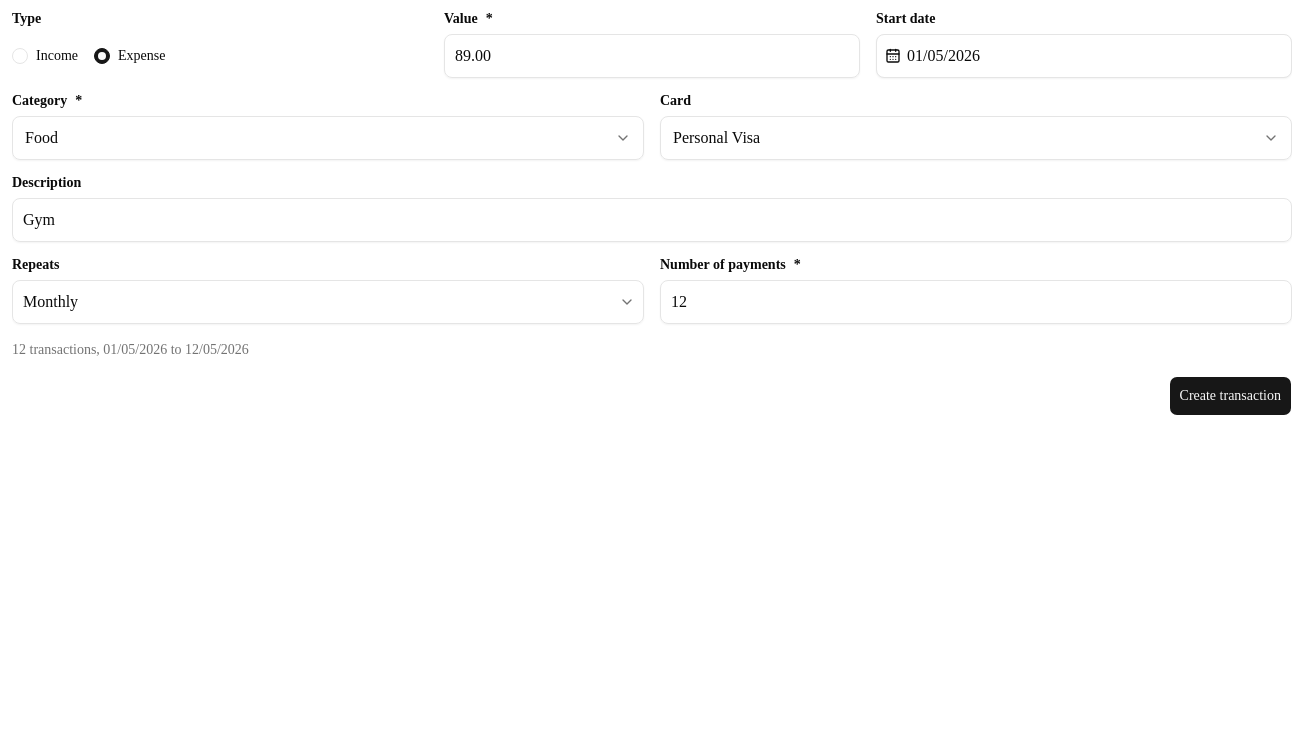
it: InstallmentForm › re-computes the preview when the frequency changes
Replace the text in the number field labelled "Number of payments *" with "3" at (976, 302), box [660,280,1292,324]
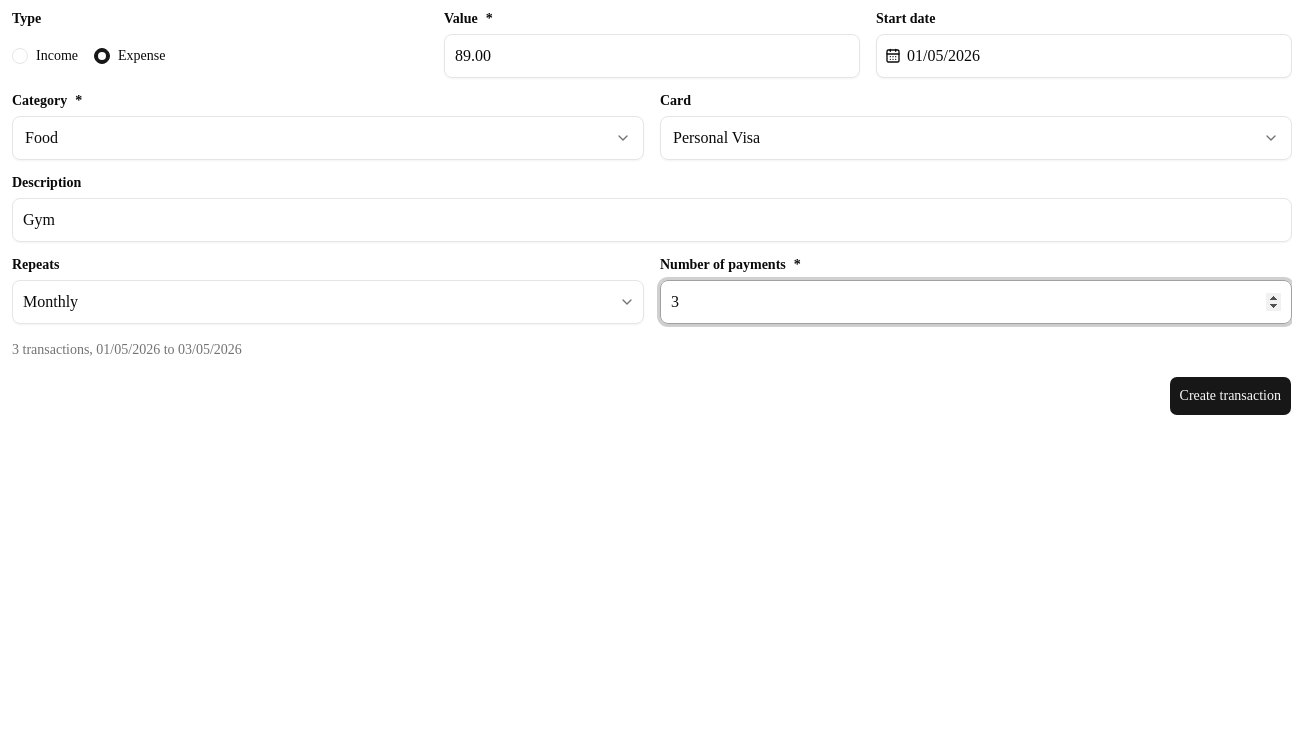
Click the dropdown named "Repeats" at (51, 302), box [12,280,644,324]
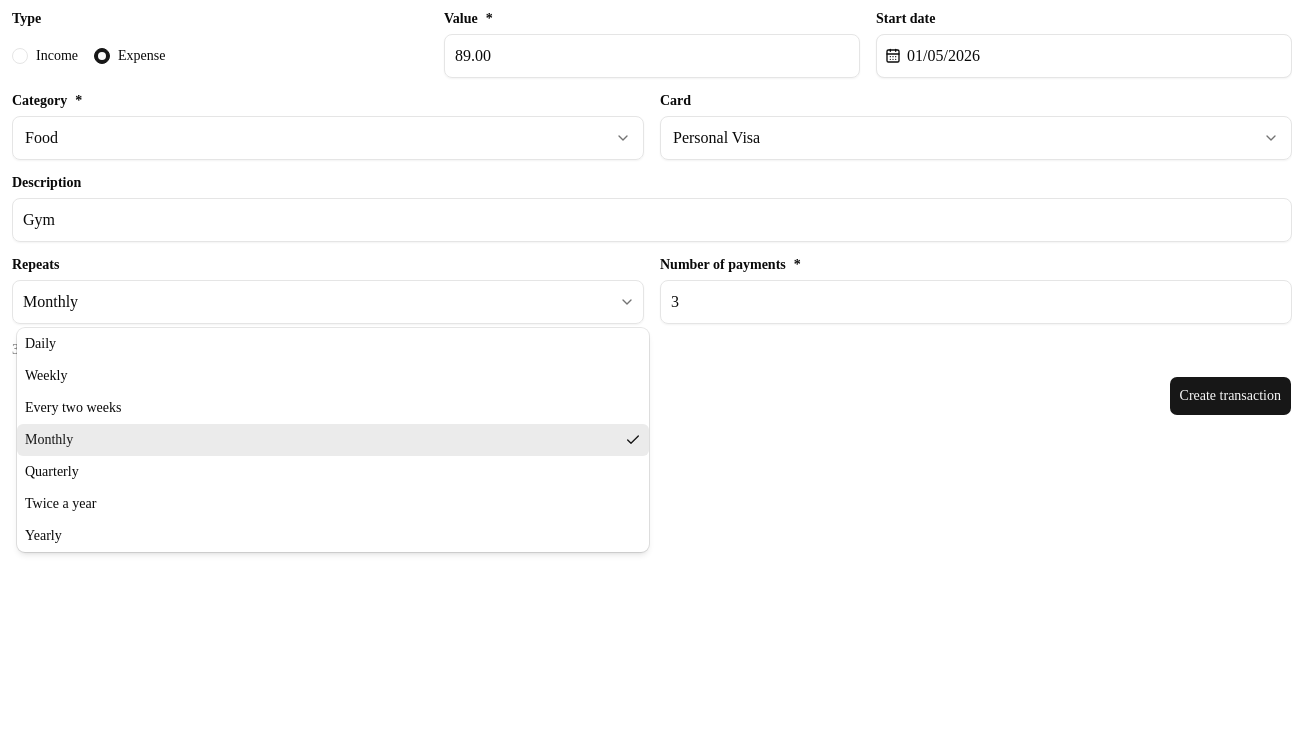
Click the option "Yearly" at (43, 536), box [25,528,62,543]
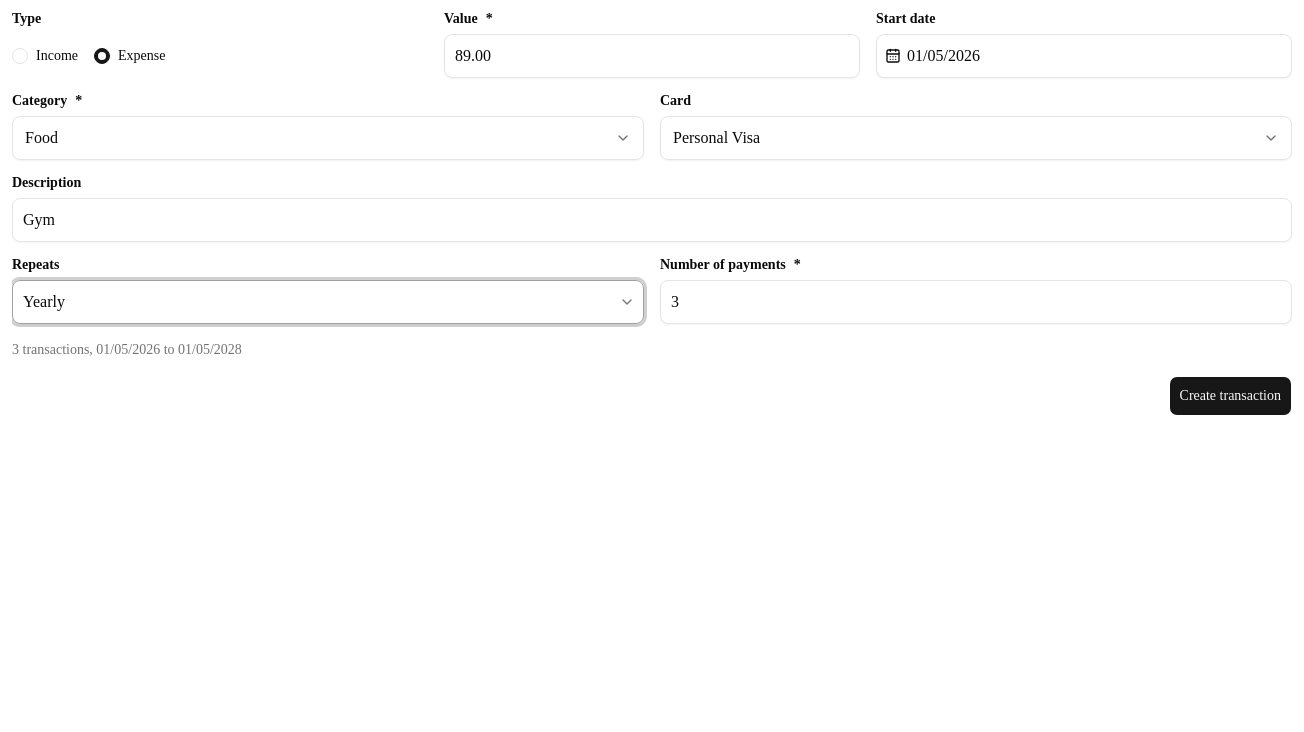
expect the text "3 transactions, 01/05/2026 to 01/05/2028" is shown: met, box [12,342,242,357]
